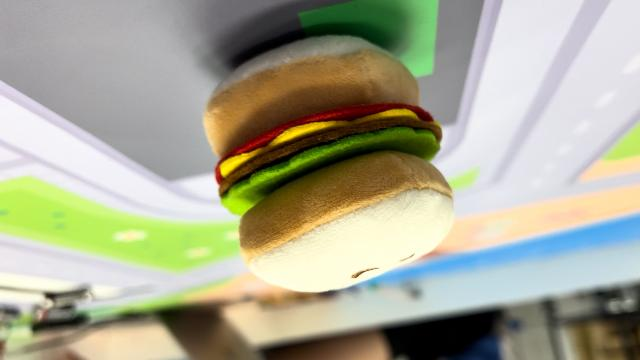sandwich: (200, 34, 458, 294)
